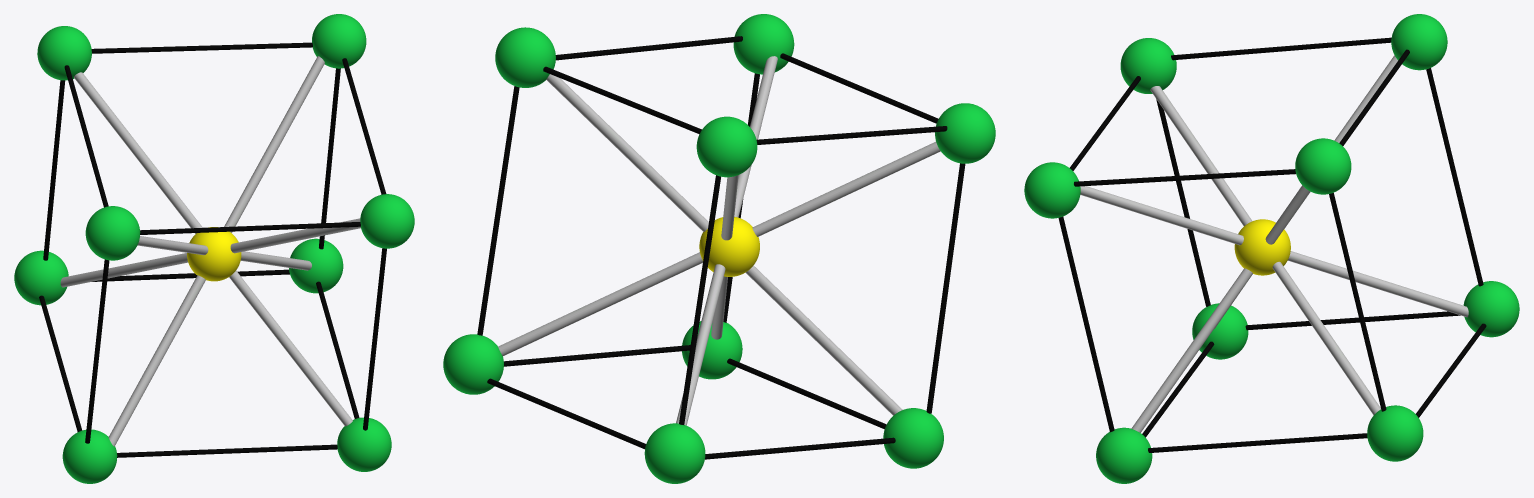
3 views of the same model, side by side, from view 1: azimuth 30°, elevation 25°; view 2: azimuth 150°, elevation 25°; view 3: azimuth 270°, elevation 25° (orthographic). The views are drawn at different scales.
Parts seen in each view (by area): view 1: node_id348, node_id358, node_id354, node_id379, node_id388, node_id390, node_id386, node_id377, node_id381, node_id375, node_id384, node_id360 (+13 smaller); view 2: node_id356, node_id358, node_id381, node_id375, node_id354, node_id384, node_id379, node_id390, node_id377, node_id388, node_id360, node_id386 (+12 smaller); view 3: node_id354, node_id356, node_id348, node_id390, node_id384, node_id388, node_id386, node_id381, node_id375, node_id379, node_id360, node_id377 (+13 smaller).
Boxes of the visible parts, left/top/right/bottom form: node_id348: left=74, top=72, right=352, bottom=426; node_id358: left=108, top=56, right=324, bottom=446; node_id354: left=60, top=218, right=360, bottom=287; node_id379: left=85, top=206, right=140, bottom=260; node_id388: left=360, top=194, right=414, bottom=248; node_id390: left=312, top=14, right=366, bottom=68; node_id386: left=337, top=417, right=391, bottom=471; node_id377: left=62, top=429, right=117, bottom=483; node_id381: left=37, top=26, right=91, bottom=80; node_id375: left=14, top=250, right=68, bottom=305; node_id384: left=289, top=238, right=343, bottom=293; node_id360: left=187, top=227, right=241, bottom=281; node_id356: left=498, top=141, right=940, bottom=355; node_id358: left=546, top=74, right=902, bottom=415; node_id381: left=696, top=116, right=757, bottom=177; node_id375: left=644, top=423, right=705, bottom=483; node_id354: left=676, top=56, right=777, bottom=425; node_id384: left=443, top=334, right=503, bottom=394; node_id379: left=935, top=103, right=995, bottom=163; node_id390: left=495, top=27, right=555, bottom=87; node_id377: left=883, top=408, right=943, bottom=468; node_id388: left=733, top=14, right=794, bottom=74; node_id360: left=699, top=217, right=759, bottom=276; node_id386: left=682, top=321, right=742, bottom=379; node_id354: left=1080, top=186, right=1468, bottom=317; node_id356: left=1150, top=86, right=1380, bottom=415; node_id348: left=1131, top=55, right=1397, bottom=432; node_id390: left=1295, top=138, right=1351, bottom=194; node_id384: left=1367, top=405, right=1423, bottom=461; node_id388: left=1024, top=162, right=1080, bottom=218; node_id386: left=1096, top=427, right=1152, bottom=483; node_id381: left=1391, top=14, right=1447, bottom=70; node_id375: left=1463, top=281, right=1519, bottom=337; node_id379: left=1120, top=38, right=1176, bottom=93; node_id360: left=1234, top=219, right=1290, bottom=275; node_id377: left=1192, top=303, right=1248, bottom=359.
Size of the model in its own units: 0.4917 by 0.4755 by 0.5529.
25 materials, 25 textured.
